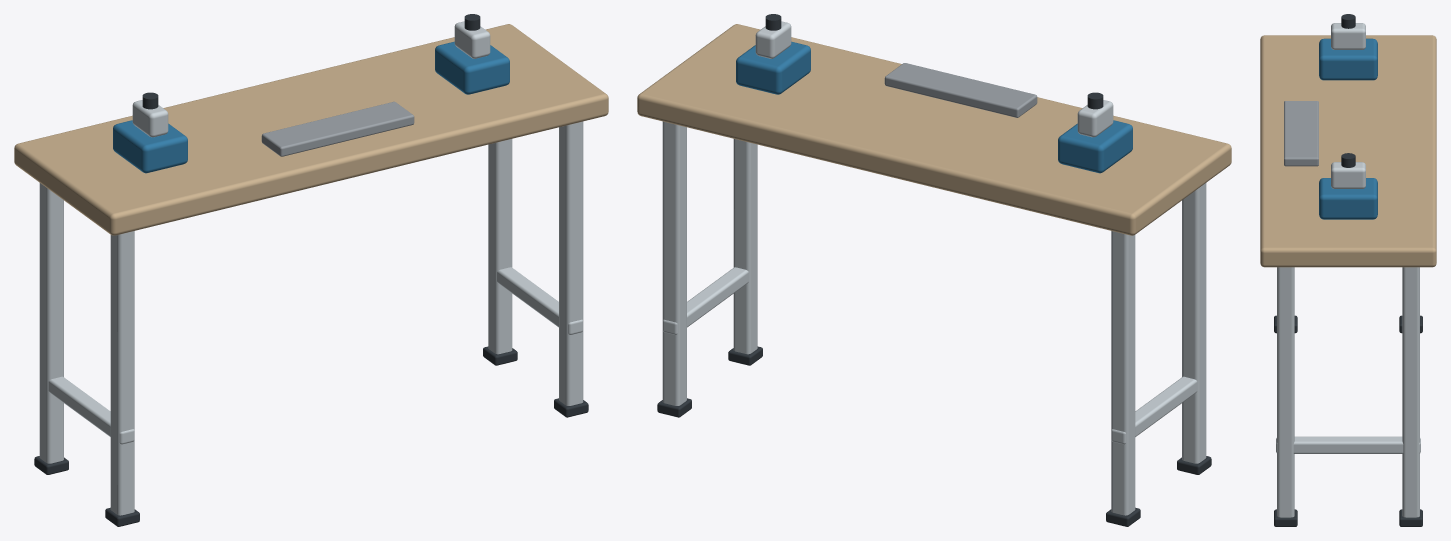
The model's file is curling-club-and-ice-maintenance-blade-honing-stand-15830f69__31290.glb.
3 views of the same model, side by side, from view 1: azimuth 30°, elevation 25°; view 2: azimuth 150°, elevation 25°; view 3: azimuth 270°, elevation 25° (orthographic). The views are drawn at different scales.
Visible parts, largest first — view 1: blade-honing-stand; view 2: blade-honing-stand; view 3: blade-honing-stand.
Part boxes in pixels (<box>): blade-honing-stand: <box>14,14,608,526</box>; blade-honing-stand: <box>637,14,1231,526</box>; blade-honing-stand: <box>1260,14,1436,526</box>.
Size of the model in its own units: 1.3 by 0.9551 by 0.4499.
